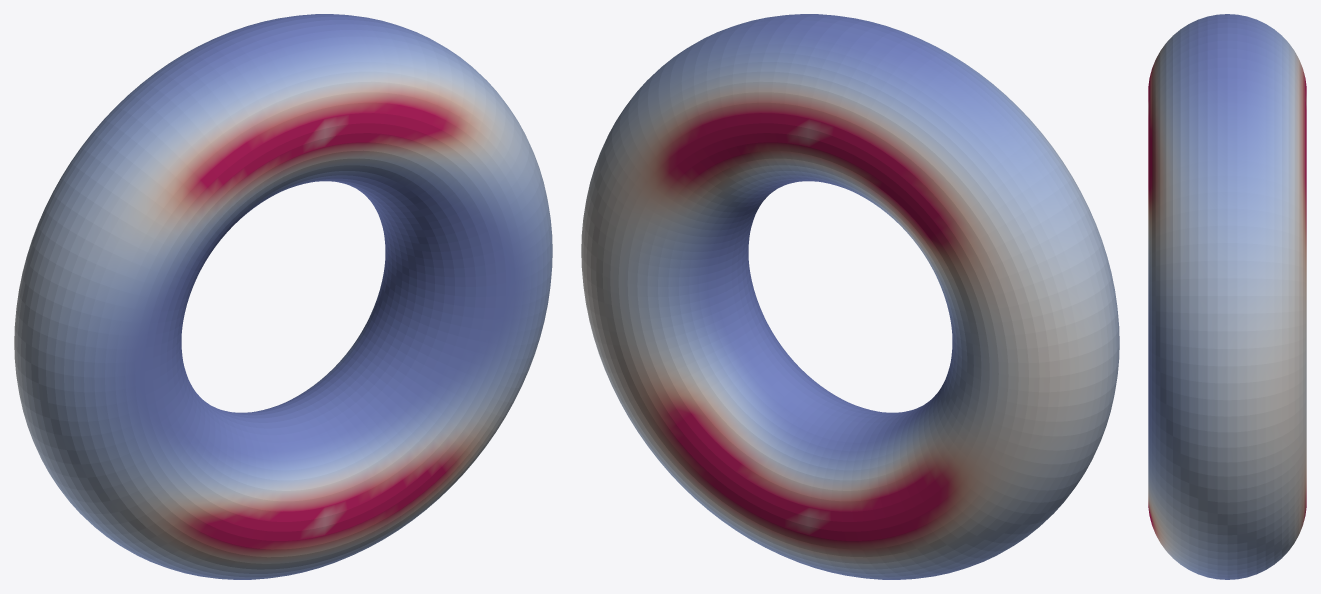
The picture shows the model from 3 angles, left to right: view 1: azimuth 30°, elevation 25°; view 2: azimuth 150°, elevation 25°; view 3: azimuth 270°, elevation 25°; orthographic projection. The views are drawn at different scales.
Parts seen in each view (by area): view 1: world; view 2: world; view 3: world.
Boxes of the visible parts, x1,y1,x2,y2 form: world: [14, 14, 552, 579]; world: [581, 14, 1119, 579]; world: [1148, 14, 1306, 579].
Bounding box in the file's own units: 19.47 × 19.47 × 5.46.
